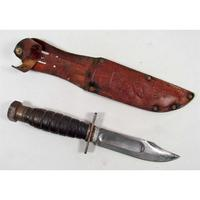knife: (3, 99, 183, 166)
